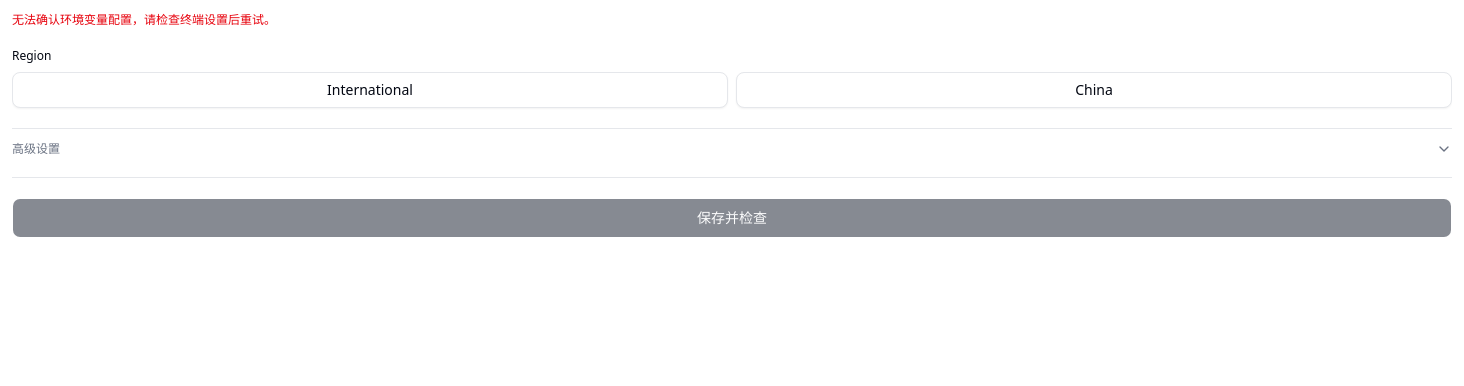
Provider Config Environment Sources › requires an explicit region even when an international credential is saved
Expected: the message "无法确认环境变量配置，请检查终端设置后重试。" is shown, [12,12,276,28]
Expected: the field labelled "International API Key" is not shown
Click the radio button labelled "International".
click(370, 90)  # box [12,72,728,108]
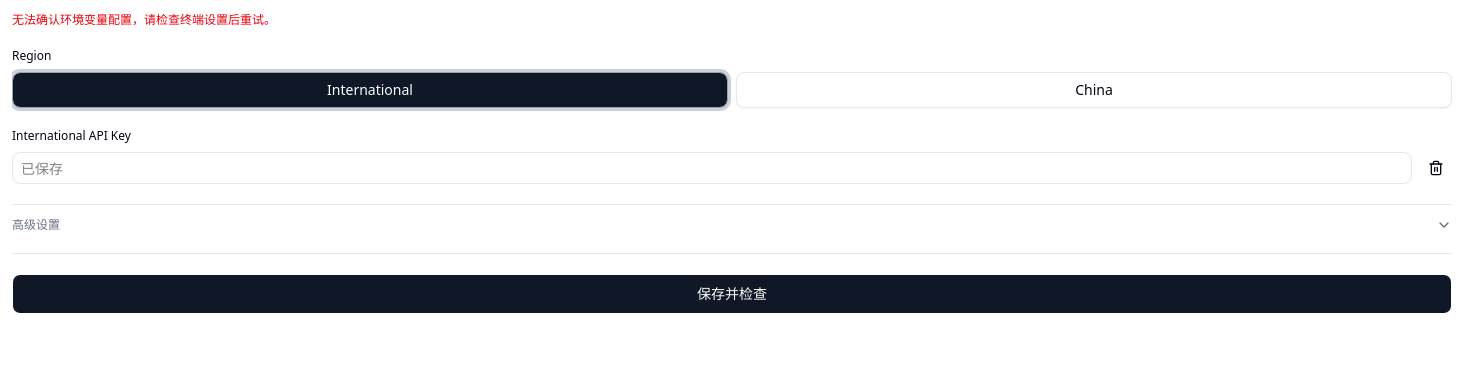
Result: the password field labelled "International API Key" is enabled at [12,152,1412,184]
Result: the button "保存并检查" is enabled at [12,274,1452,314]
Click the button "高级设置".
click(36, 224)  # box [12,217,1452,233]
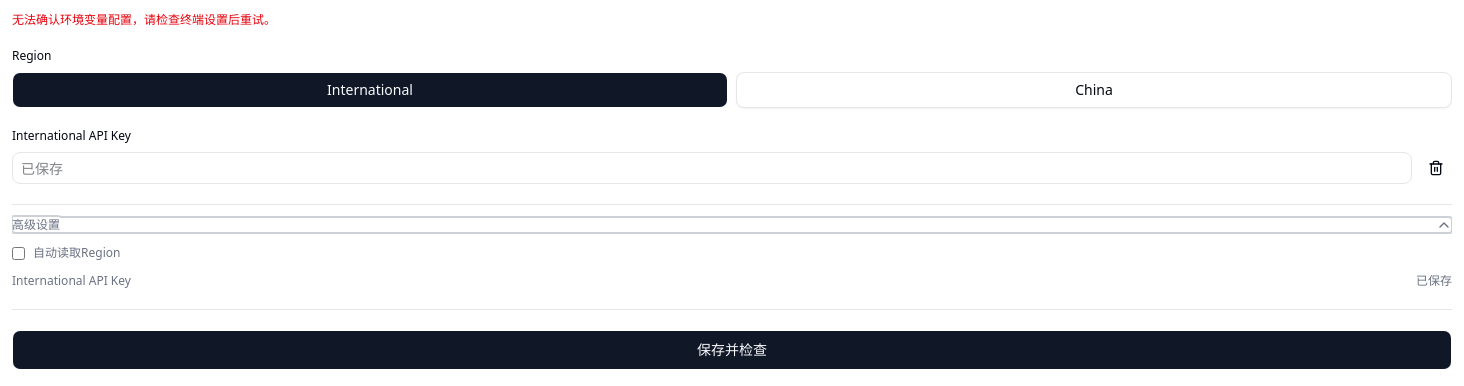
Result: the text "已保存" is shown at [1416,273,1452,289]
